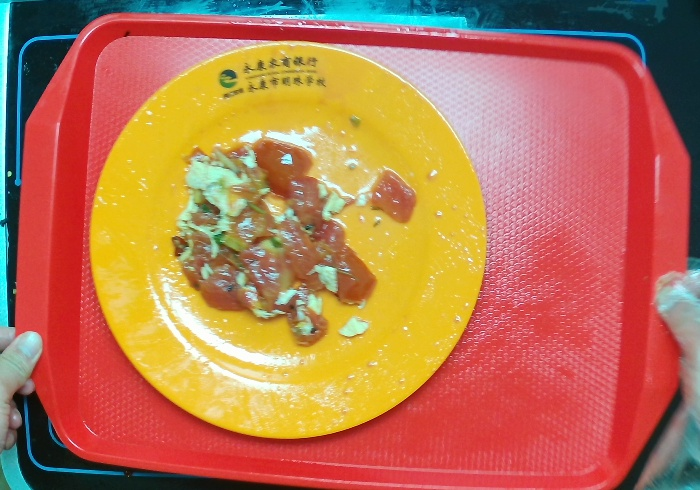YKMZ-Ju_Se_Mian_Pan: (77, 37, 495, 448)
